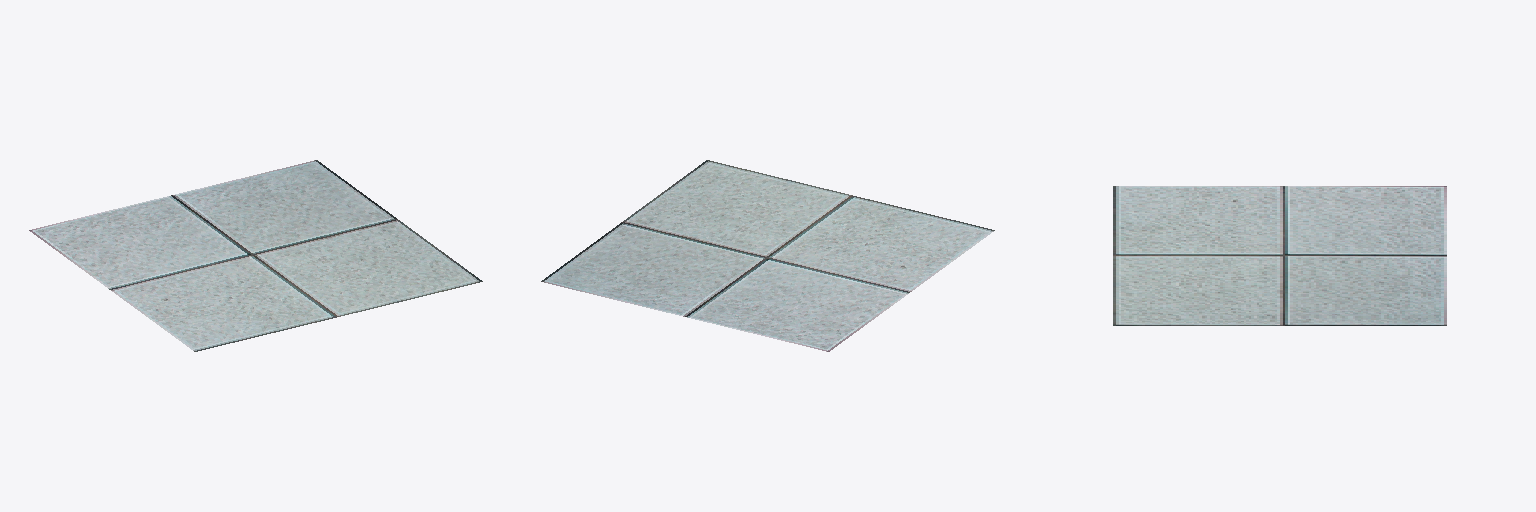
3 renders of one model, left to right at view 1: azimuth 30°, elevation 25°; view 2: azimuth 150°, elevation 25°; view 3: azimuth 270°, elevation 25°, orthographic.
Bounding box in the file's own units: 2 × 0 × 2.
Materials: 1 (1 with a texture image).